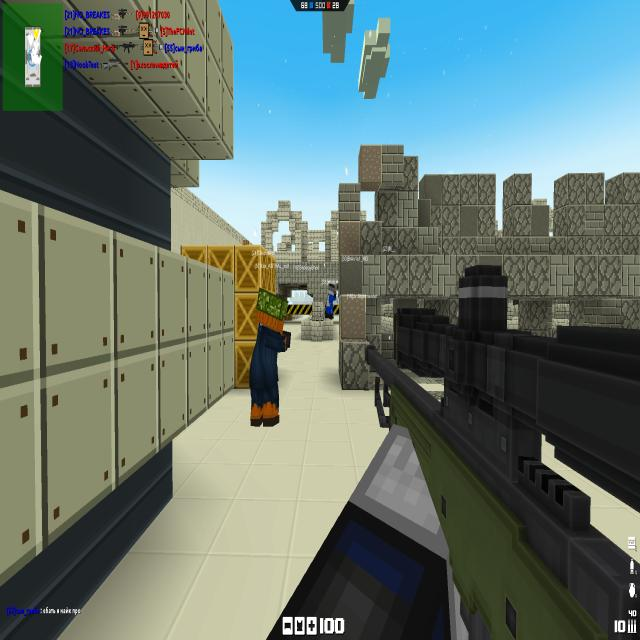player: (248, 285, 290, 427), (324, 283, 338, 320)
